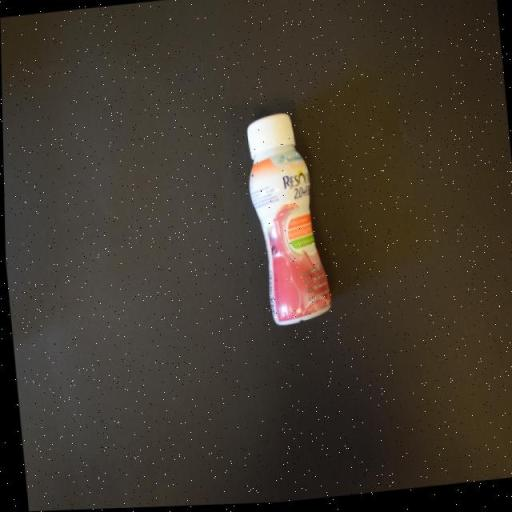plastic: (240, 111, 334, 331)
